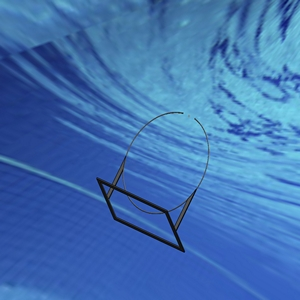circle: (96, 108, 208, 254)
